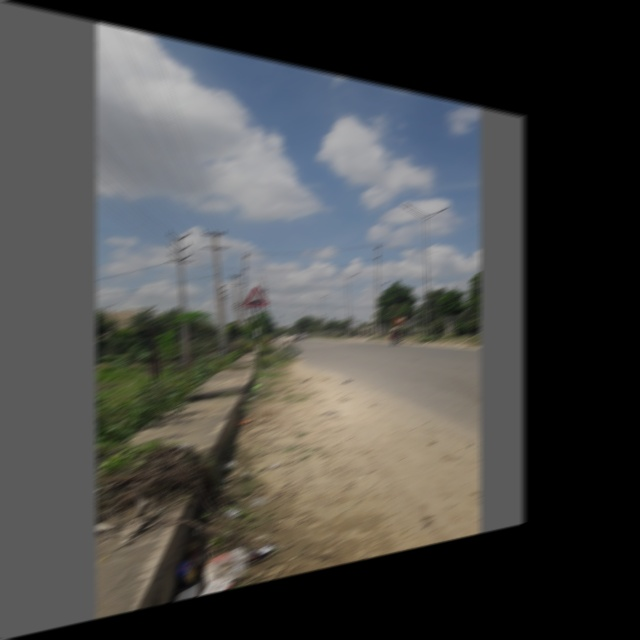Hump_or_Rough_Road: (240, 283, 270, 308)
